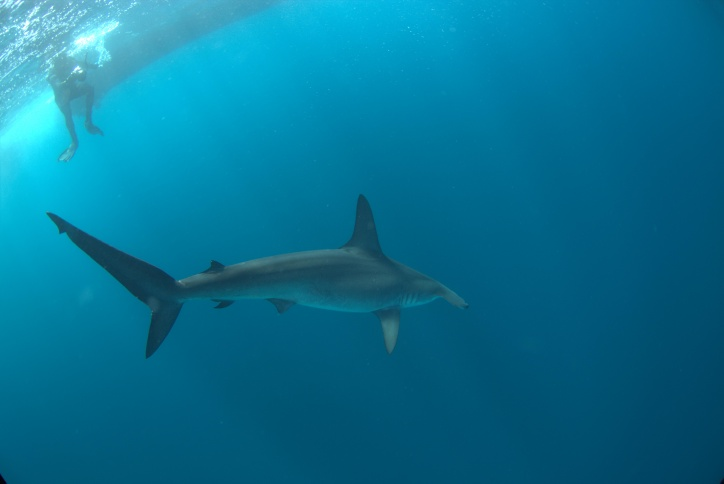Hammer: (17, 189, 503, 401)
